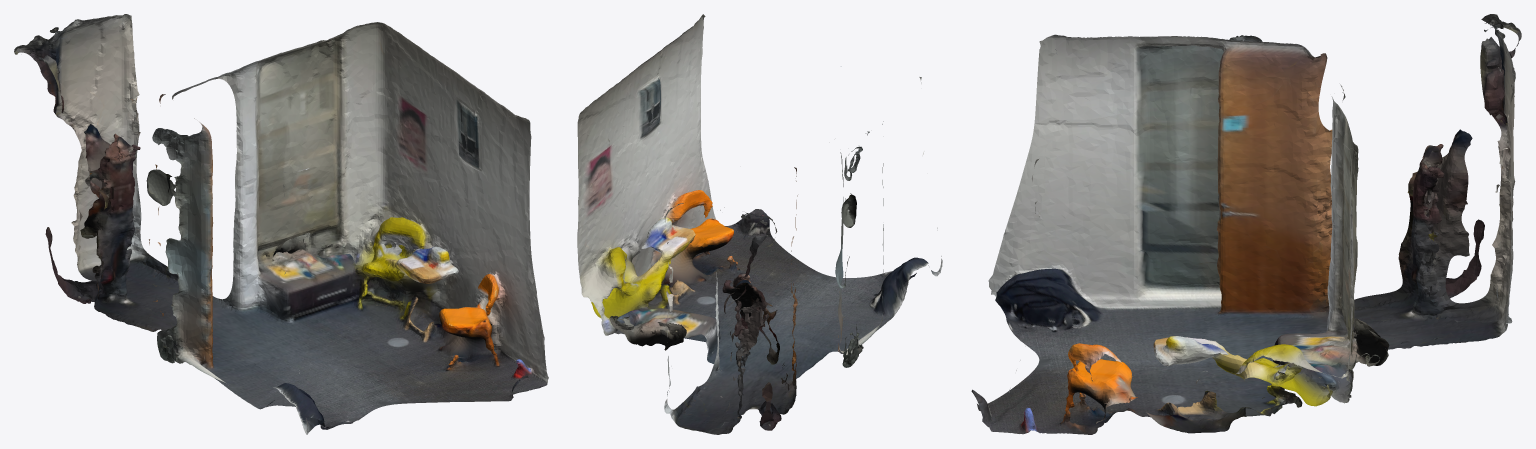
Rendered from studio.glb.
3 renders of one model, left to right at view 1: azimuth 30°, elevation 25°; view 2: azimuth 150°, elevation 25°; view 3: azimuth 270°, elevation 25°, orthographic. The views are drawn at different scales.
Bounding box in the file's own units: 3.1 × 2.54 × 4.53.
Materials: 1 (1 with a texture image).
